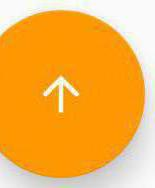ImgButton: (1, 1, 154, 187)
